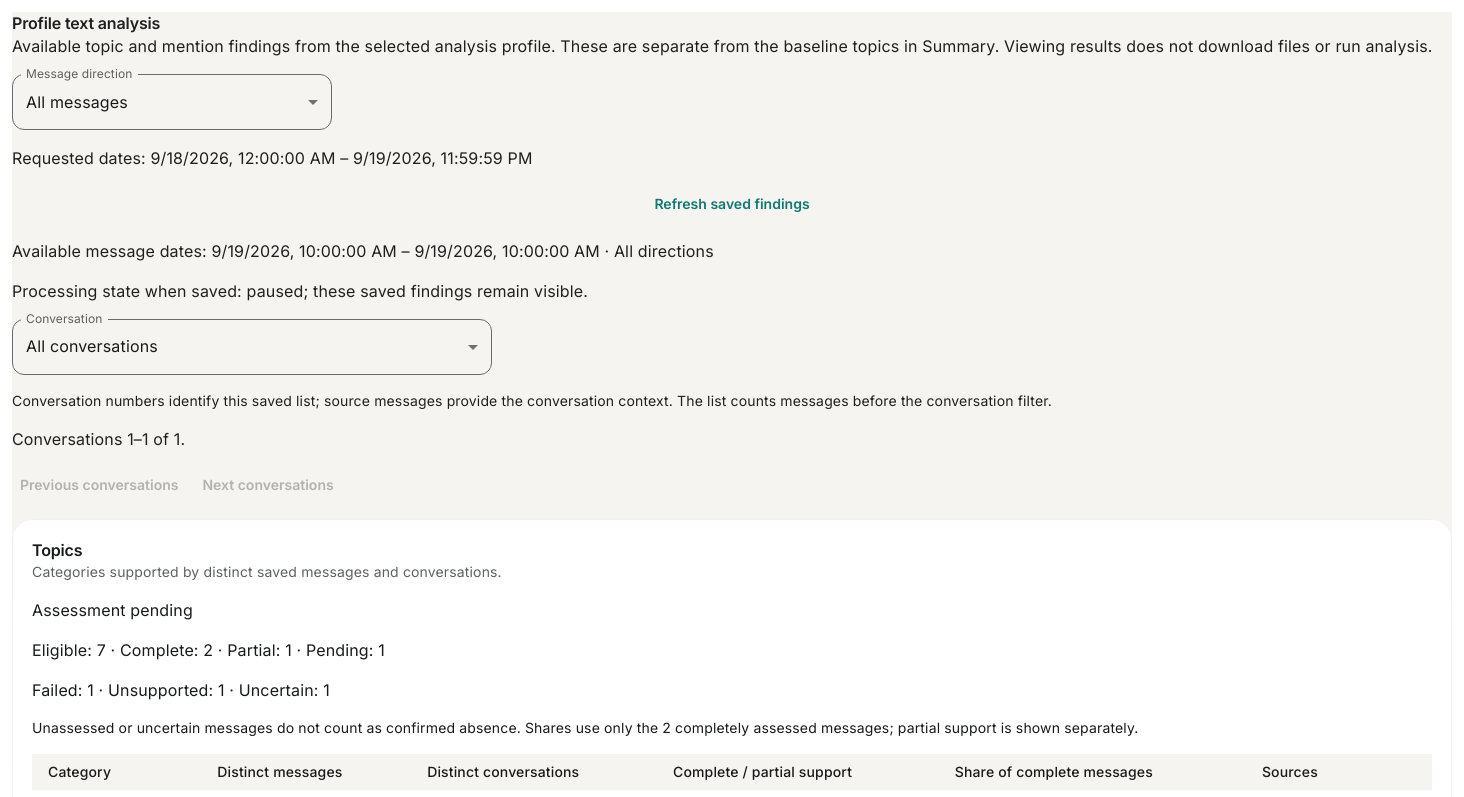
Test case: TaskFindings › reloads an unchanged baseline after one explicit refresh and blocks repeated clicks
The width and height of the screenshot is (1464, 797).
Click the button "Refresh saved findings" at (732, 205), box x1=12 y1=186 x2=1452 y2=223
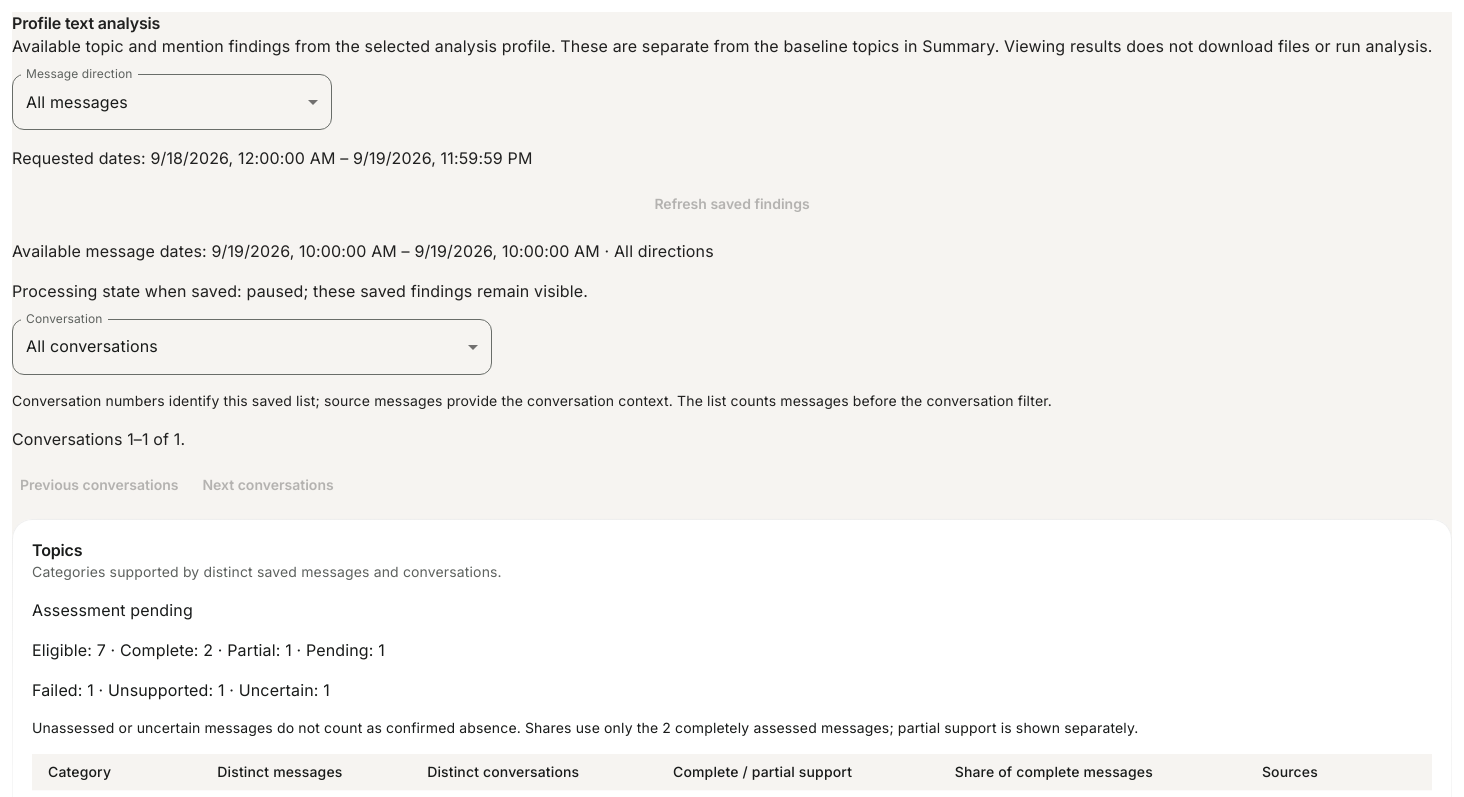
Expected: the button "Refresh saved findings" is disabled
Click the button "Refresh saved findings" at (732, 205), box x1=12 y1=186 x2=1452 y2=223
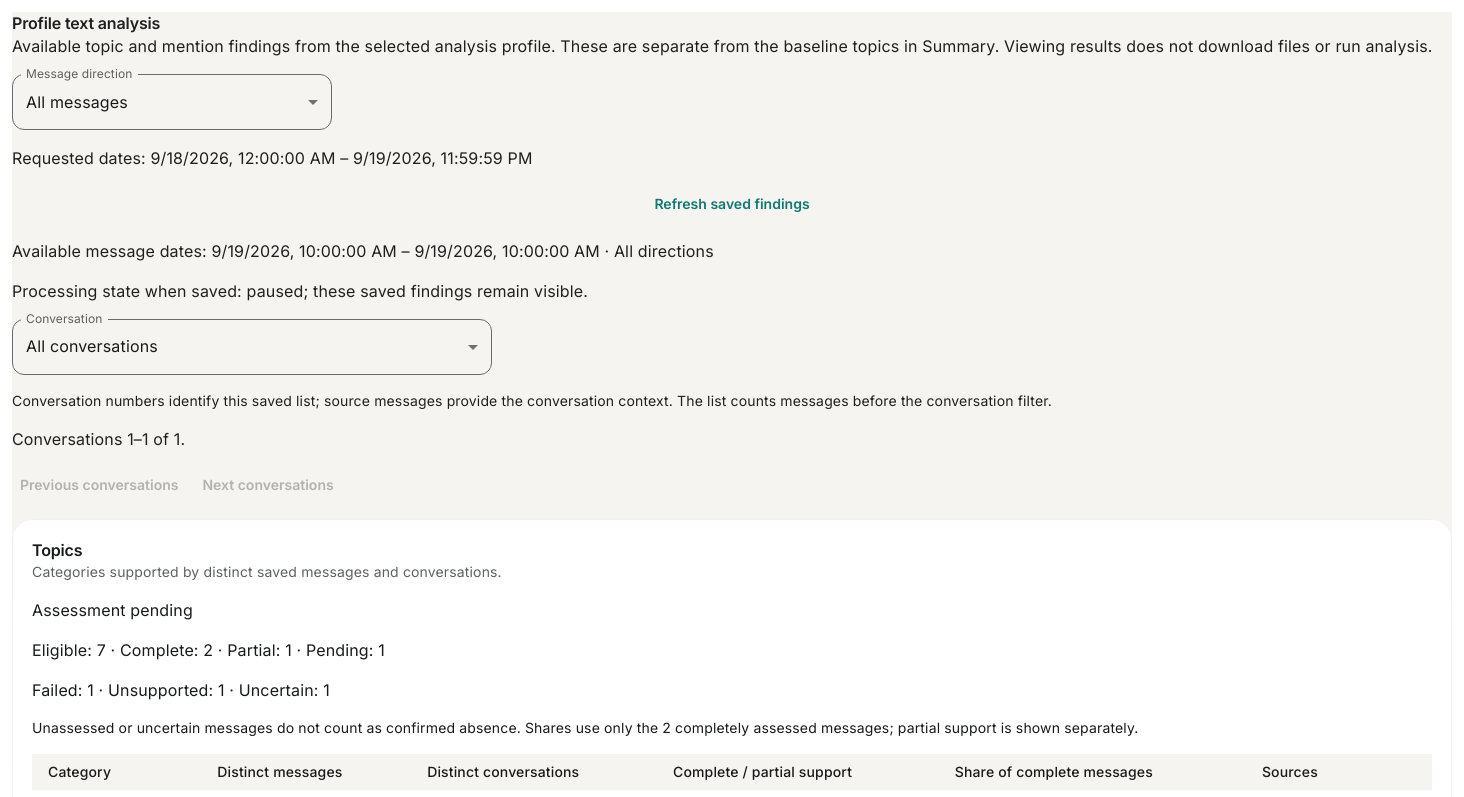
Expected: the button "Refresh saved findings" is enabled, x1=12 y1=186 x2=1452 y2=223
